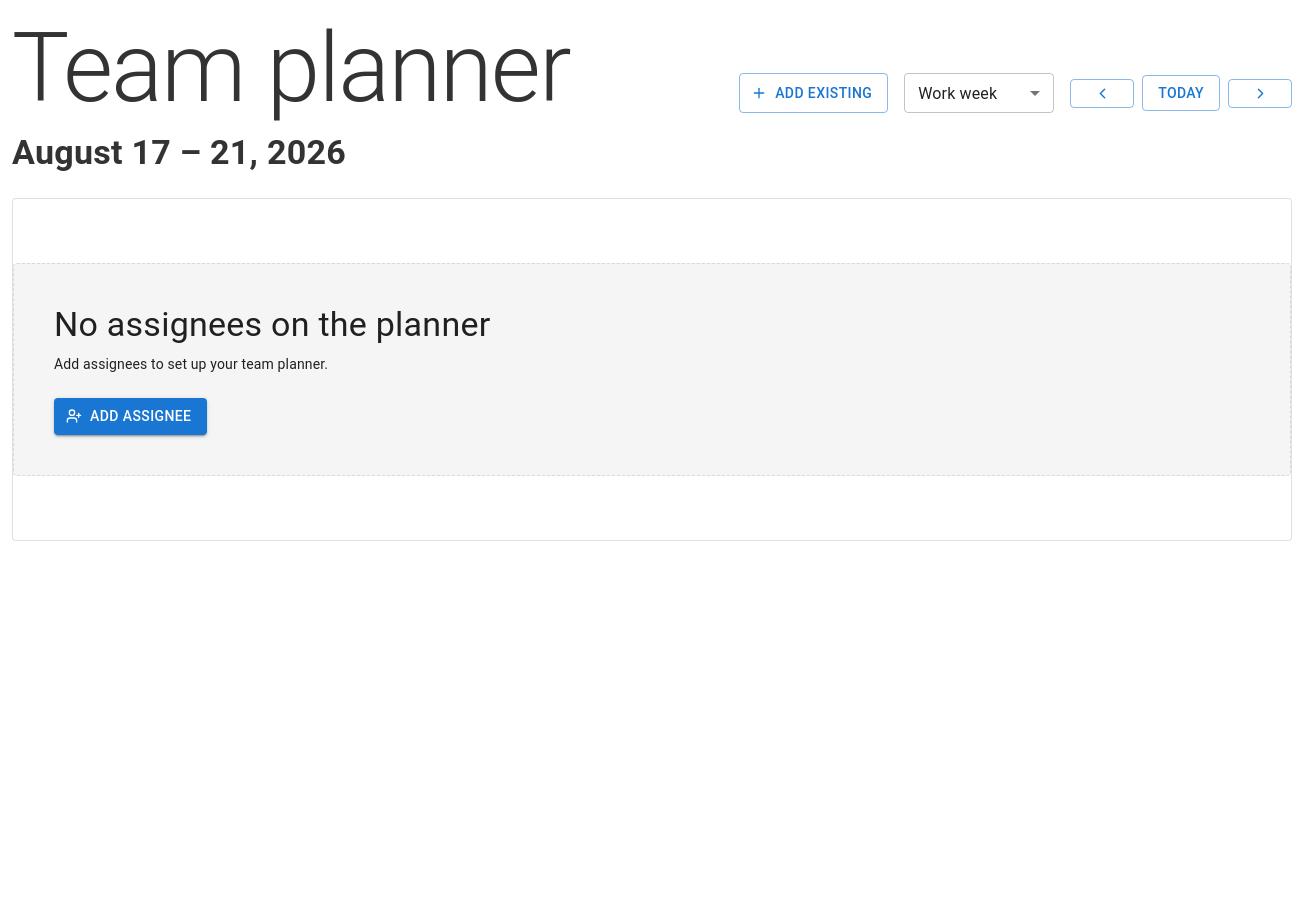
it: ProjectTeamPlanner › adds and removes assignee rows in local planner state
Step 1. Click the button "Add assignee" → (131, 416), box x1=54 y1=398 x2=207 y2=434
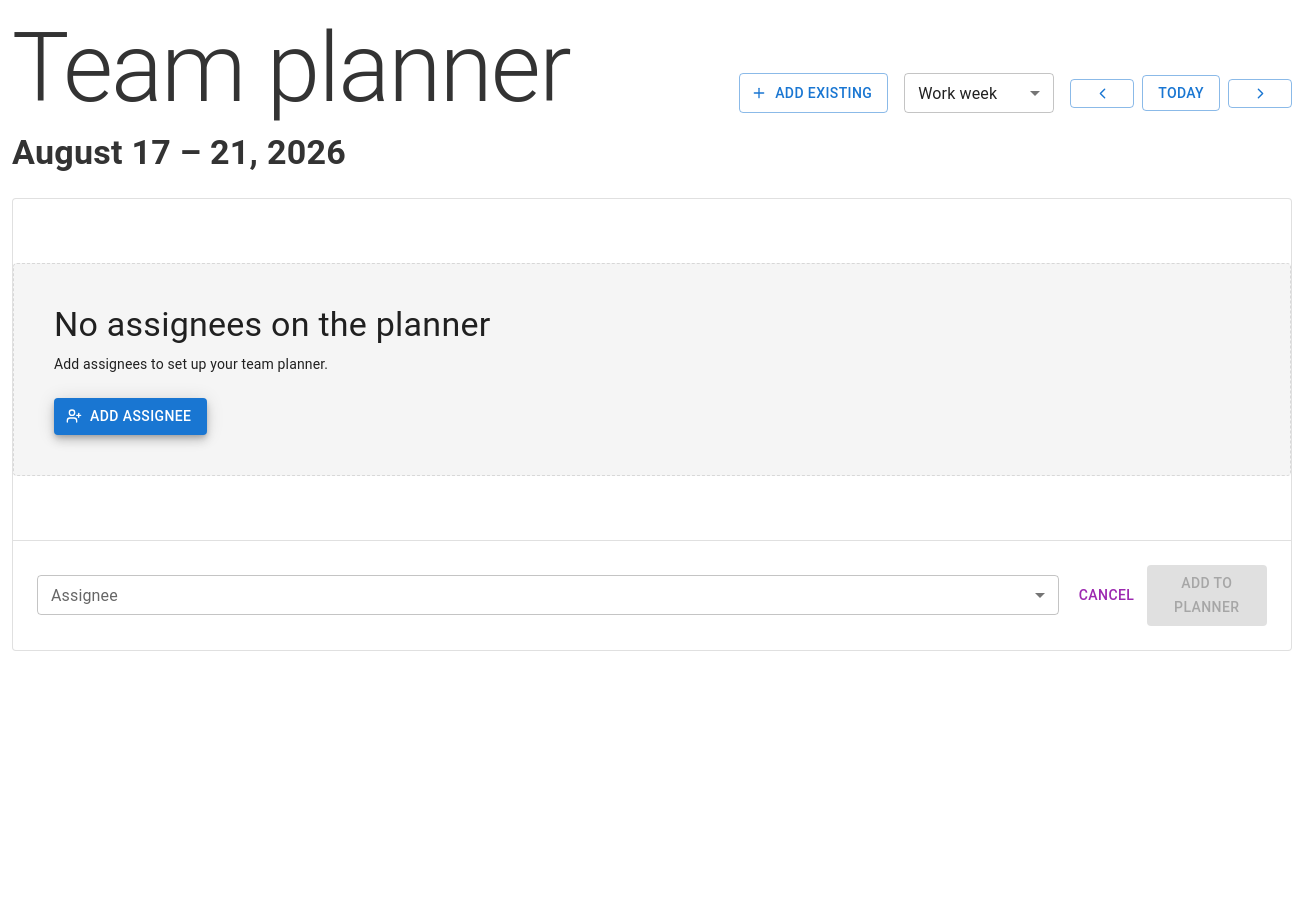
Step 2. Click the dropdown named "Assignee" → (548, 595), box x1=37 y1=575 x2=1058 y2=615
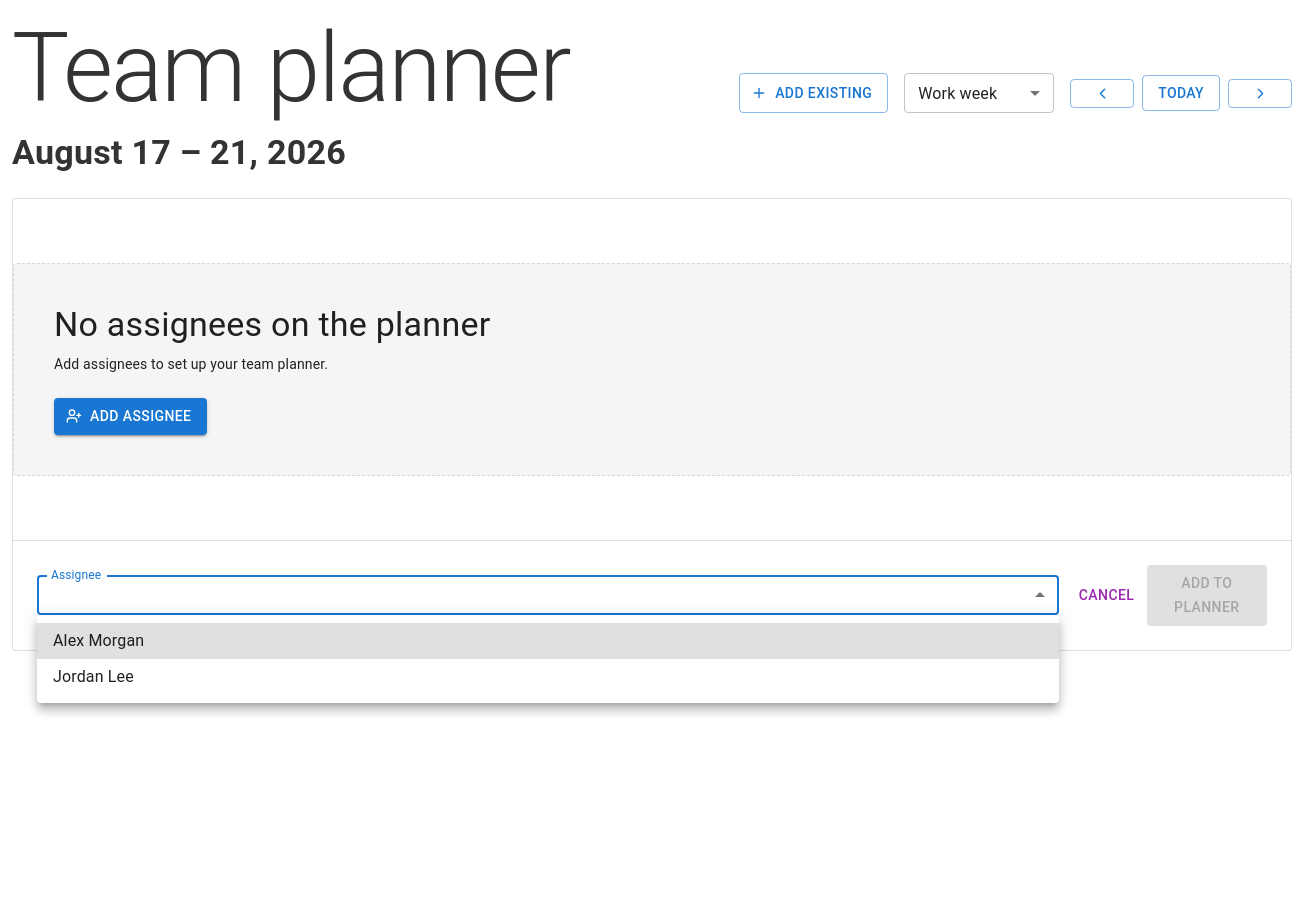
Step 3. Click the option "Alex Morgan" → (99, 640), box x1=37 y1=623 x2=1059 y2=659
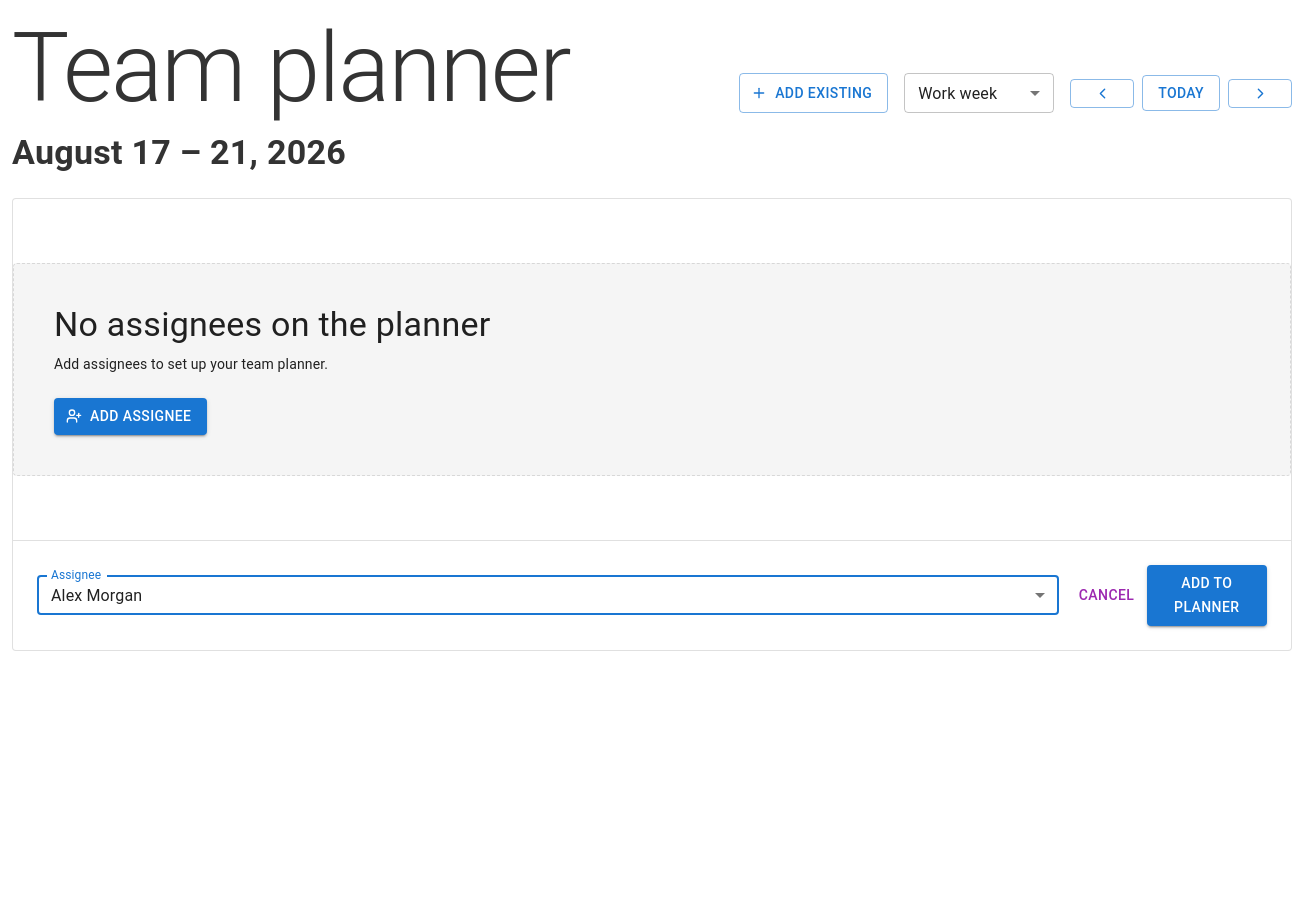
Step 4. Click the button "Add to planner" → (1207, 595), box x1=1146 y1=564 x2=1267 y2=626
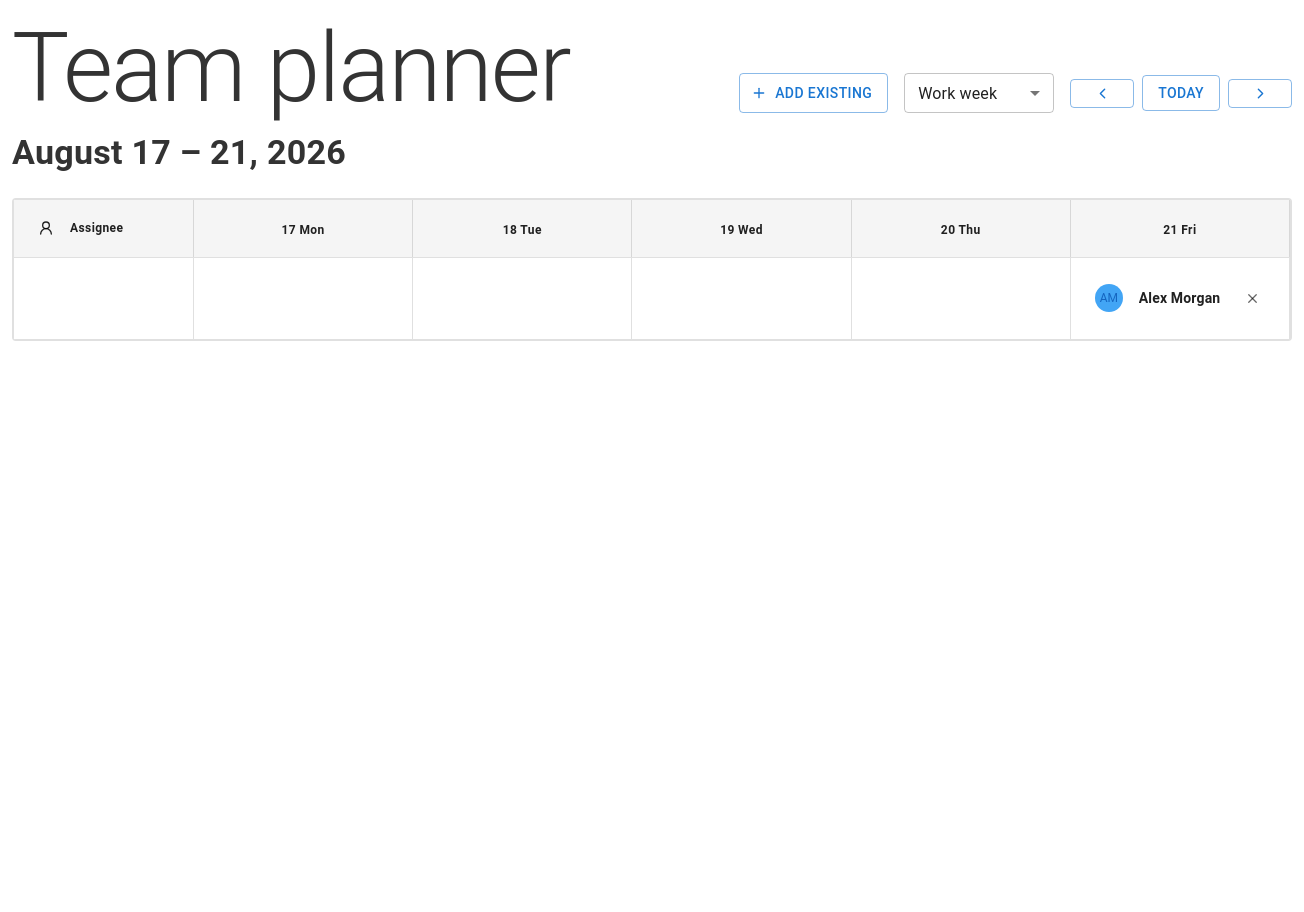
Expected: the element "Alex Morgan" is shown, x1=1071 y1=258 x2=1290 y2=339
Step 5. Click the button named "Remove Alex Morgan" → (1252, 298), box x1=1240 y1=286 x2=1265 y2=311
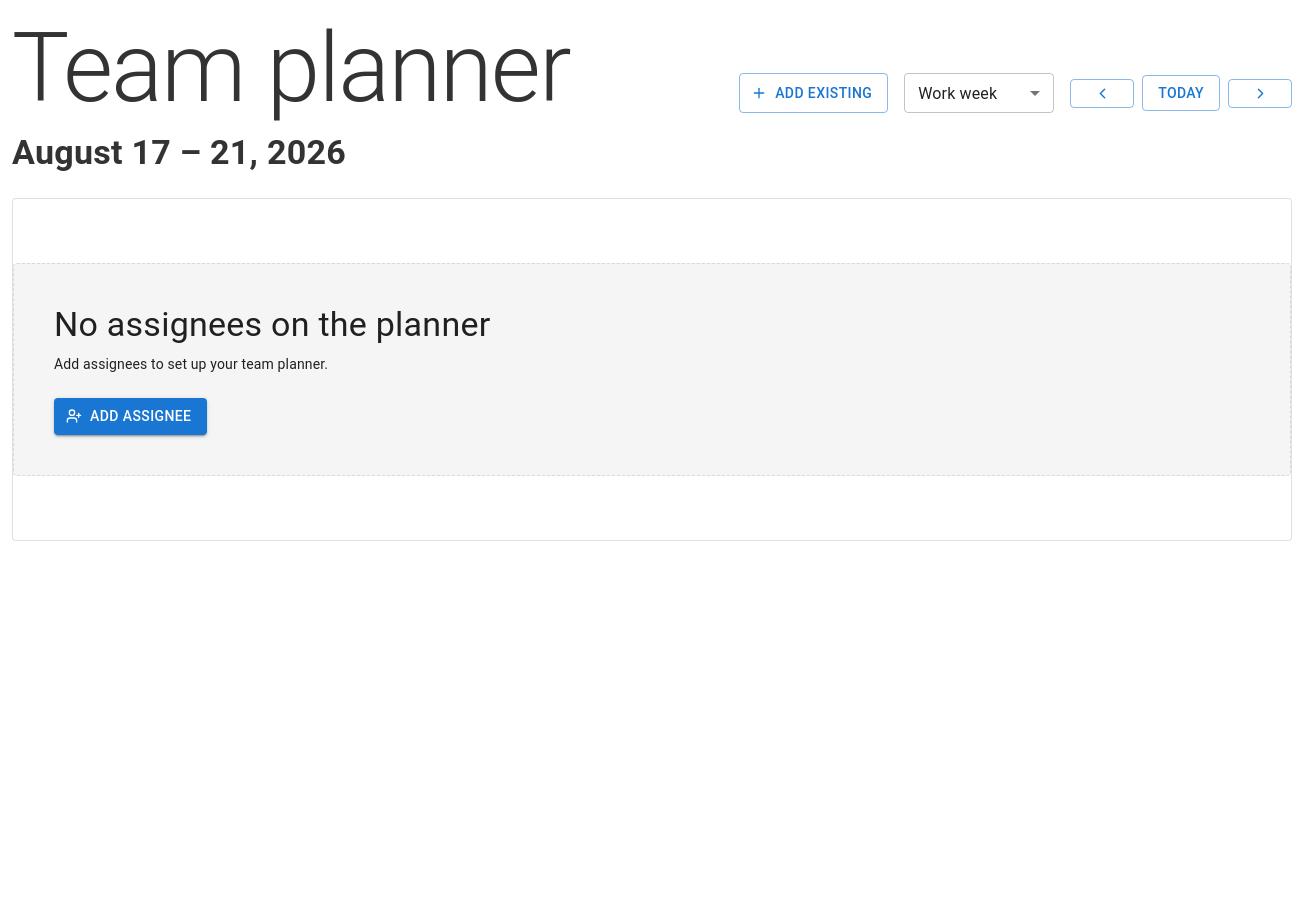
Expected: the text "Alex Morgan" is gone
